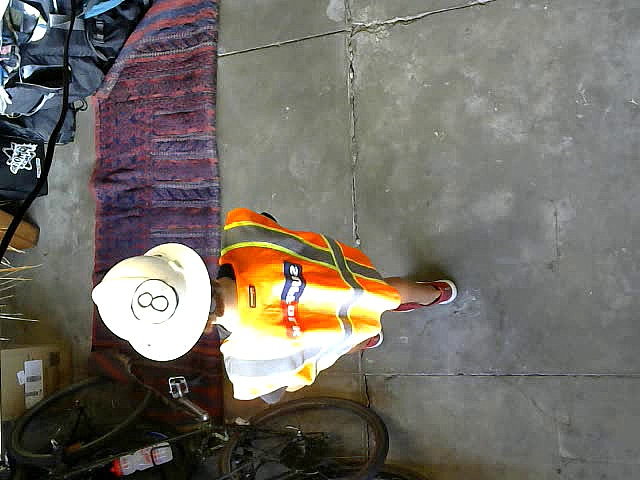eight: (128, 277, 178, 325)
